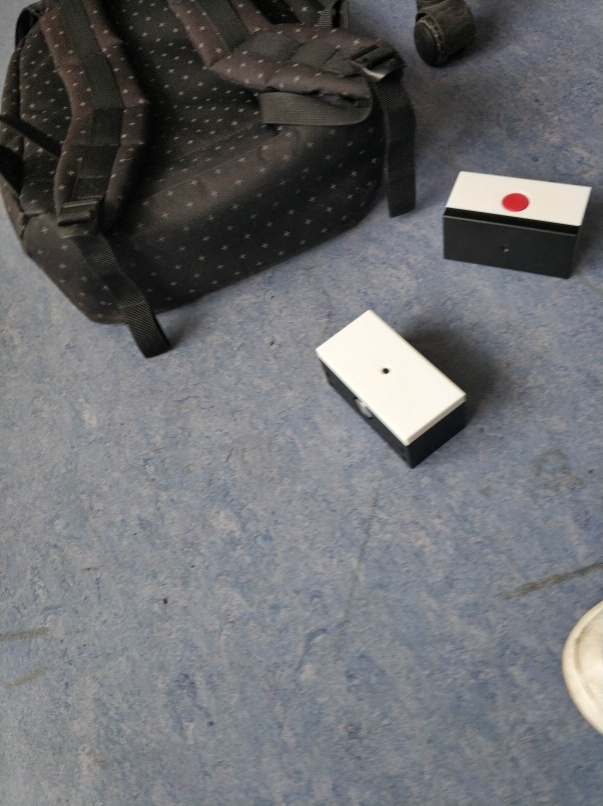black+white+red: (439, 173, 593, 282)
white+black+silver: (306, 303, 475, 475)
